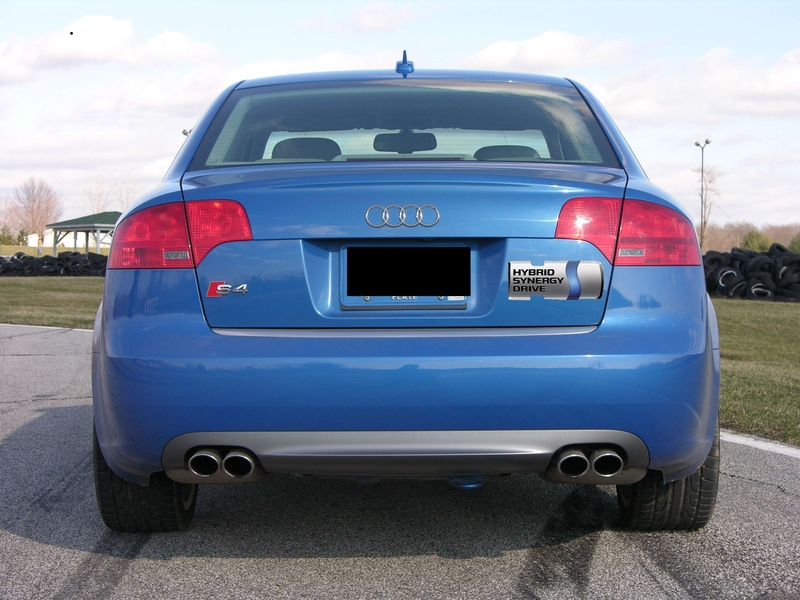audi: (353, 199, 447, 233)
